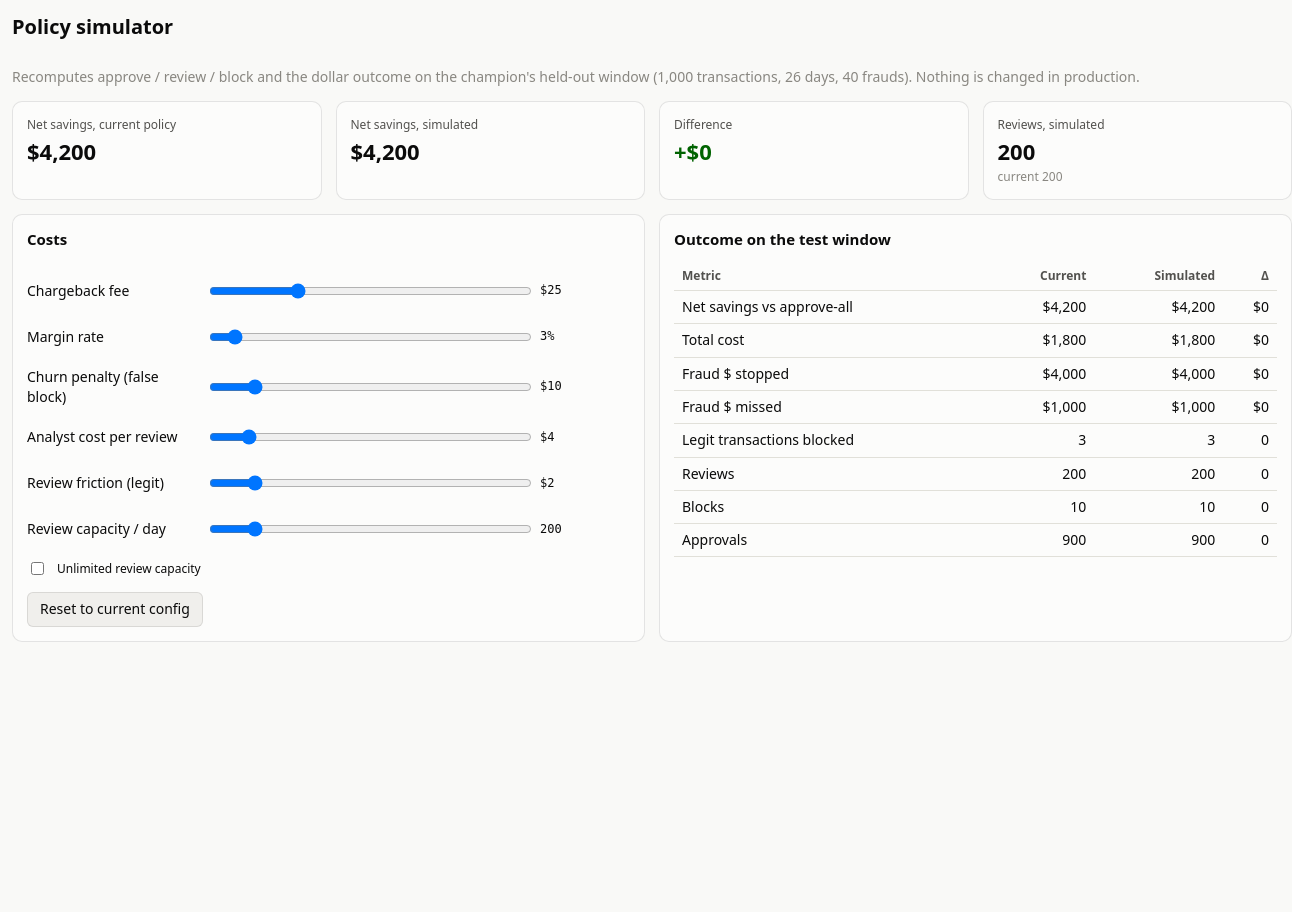
Scenario: PolicySimulator › sends null capacity for unlimited reviews
Expected: the text with test id "sim-savings" reads "$4,200", 350,136 -> 420,166
Step 1. Click the checkbox labelled "Unlimited review capacity" → (38, 569), box 31,562 -> 44,575
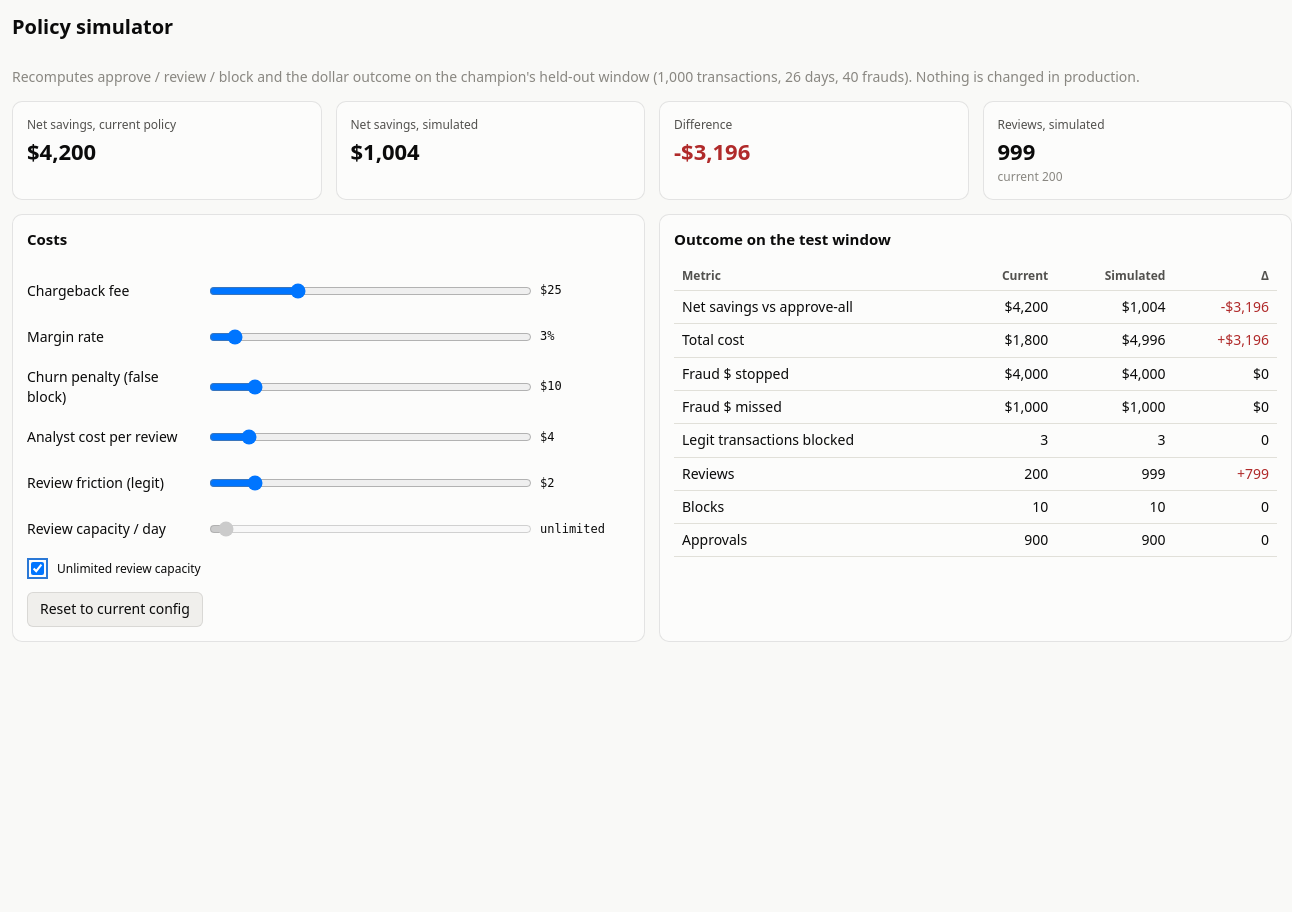
Result: the slider labelled "Review capacity / day" is disabled at 209,515 -> 532,543
